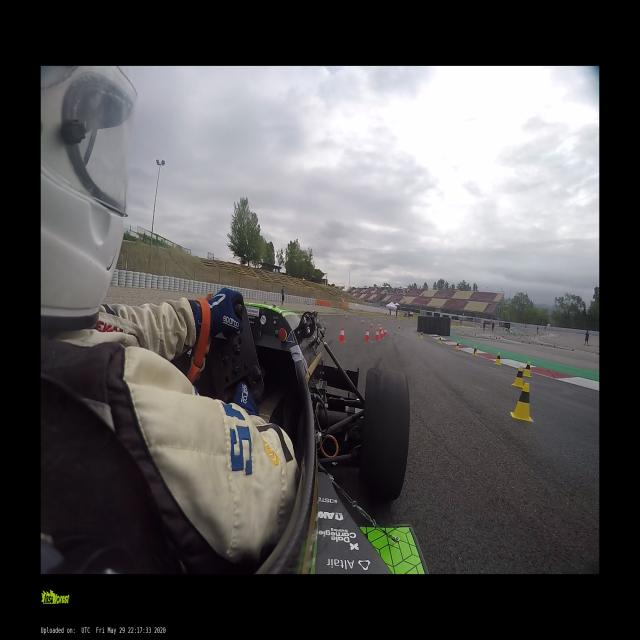orange_cone: (338, 328, 346, 342), (364, 329, 370, 342), (374, 330, 379, 340), (383, 328, 387, 337), (380, 329, 384, 338), (378, 326, 383, 333), (370, 322, 373, 328), (361, 320, 364, 324), (597, 349, 599, 355)
yellow_cone: (511, 382, 533, 422), (511, 366, 524, 387), (522, 361, 532, 378), (494, 352, 501, 366), (473, 345, 477, 356), (437, 336, 442, 344), (455, 342, 459, 350), (419, 332, 423, 338), (398, 326, 400, 331), (378, 321, 380, 325), (368, 318, 370, 322)
